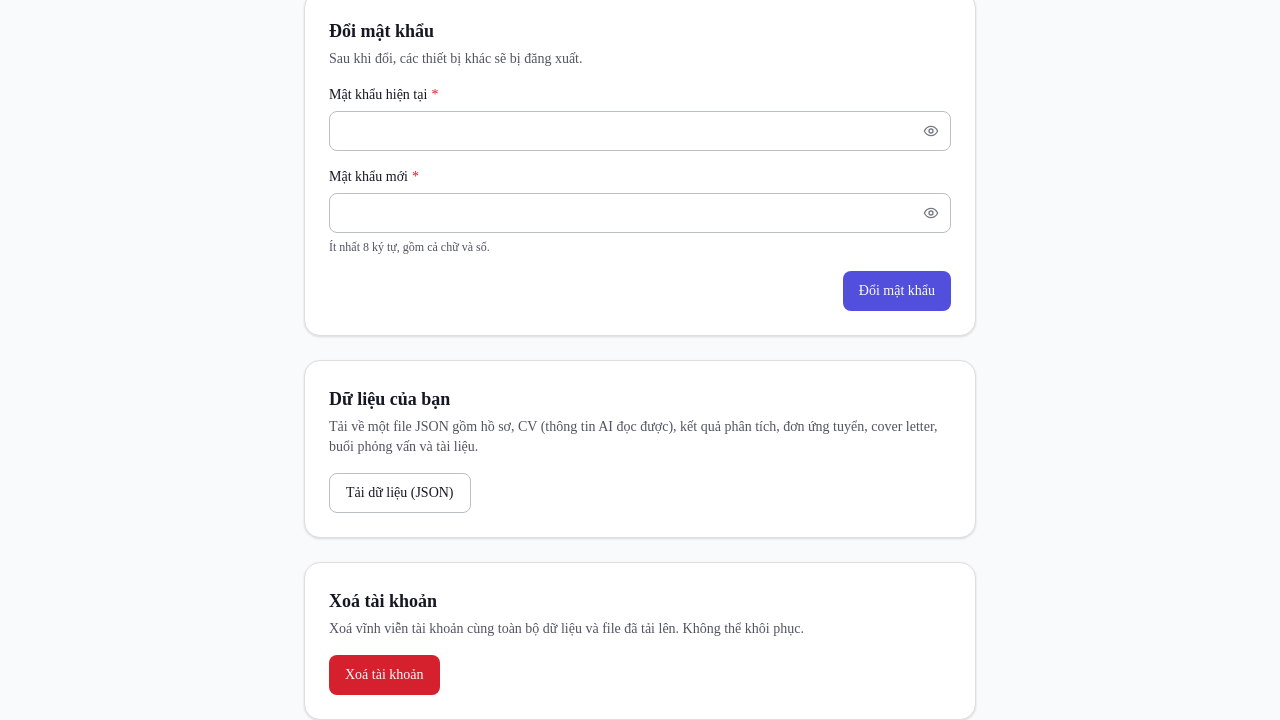
SettingsView › downloads the data as a JSON file
(page scrolled)
Step 1. Click the button "Tải dữ liệu (JSON)" → point(400, 493), box [329,473,470,513]
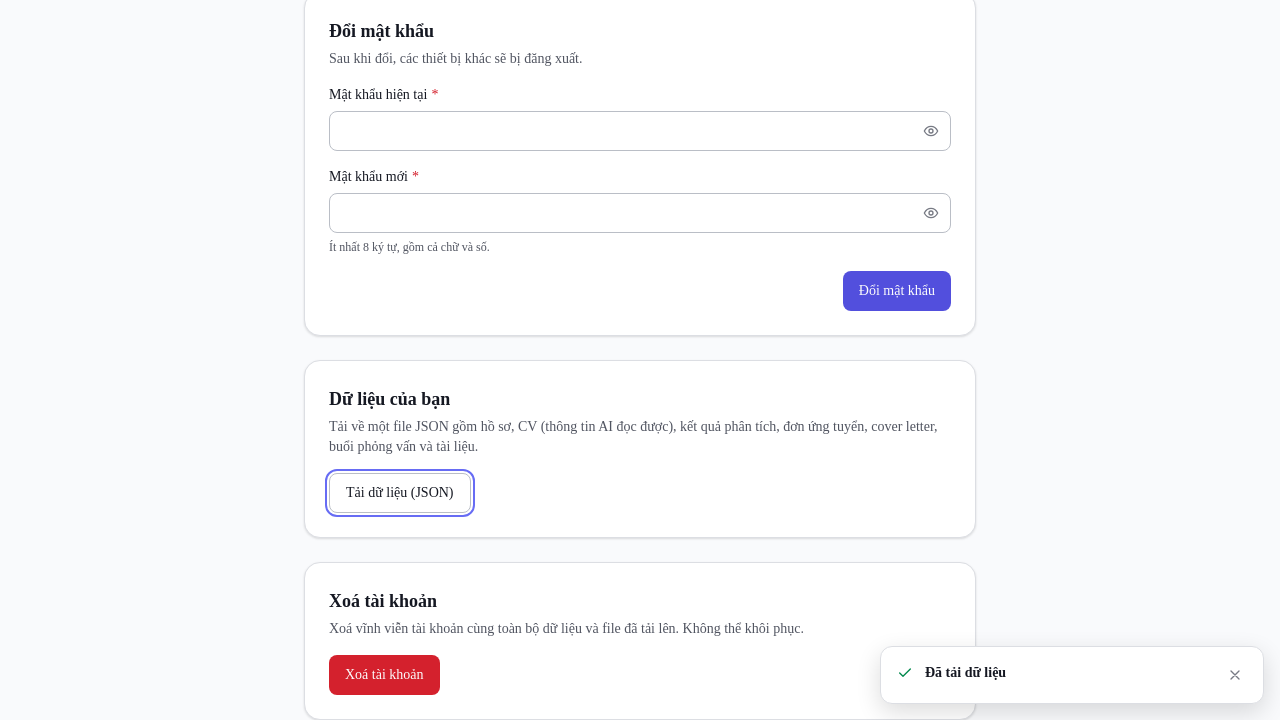
Expected: the text "Đã tải dữ liệu" is shown, [925,665,1006,680]
